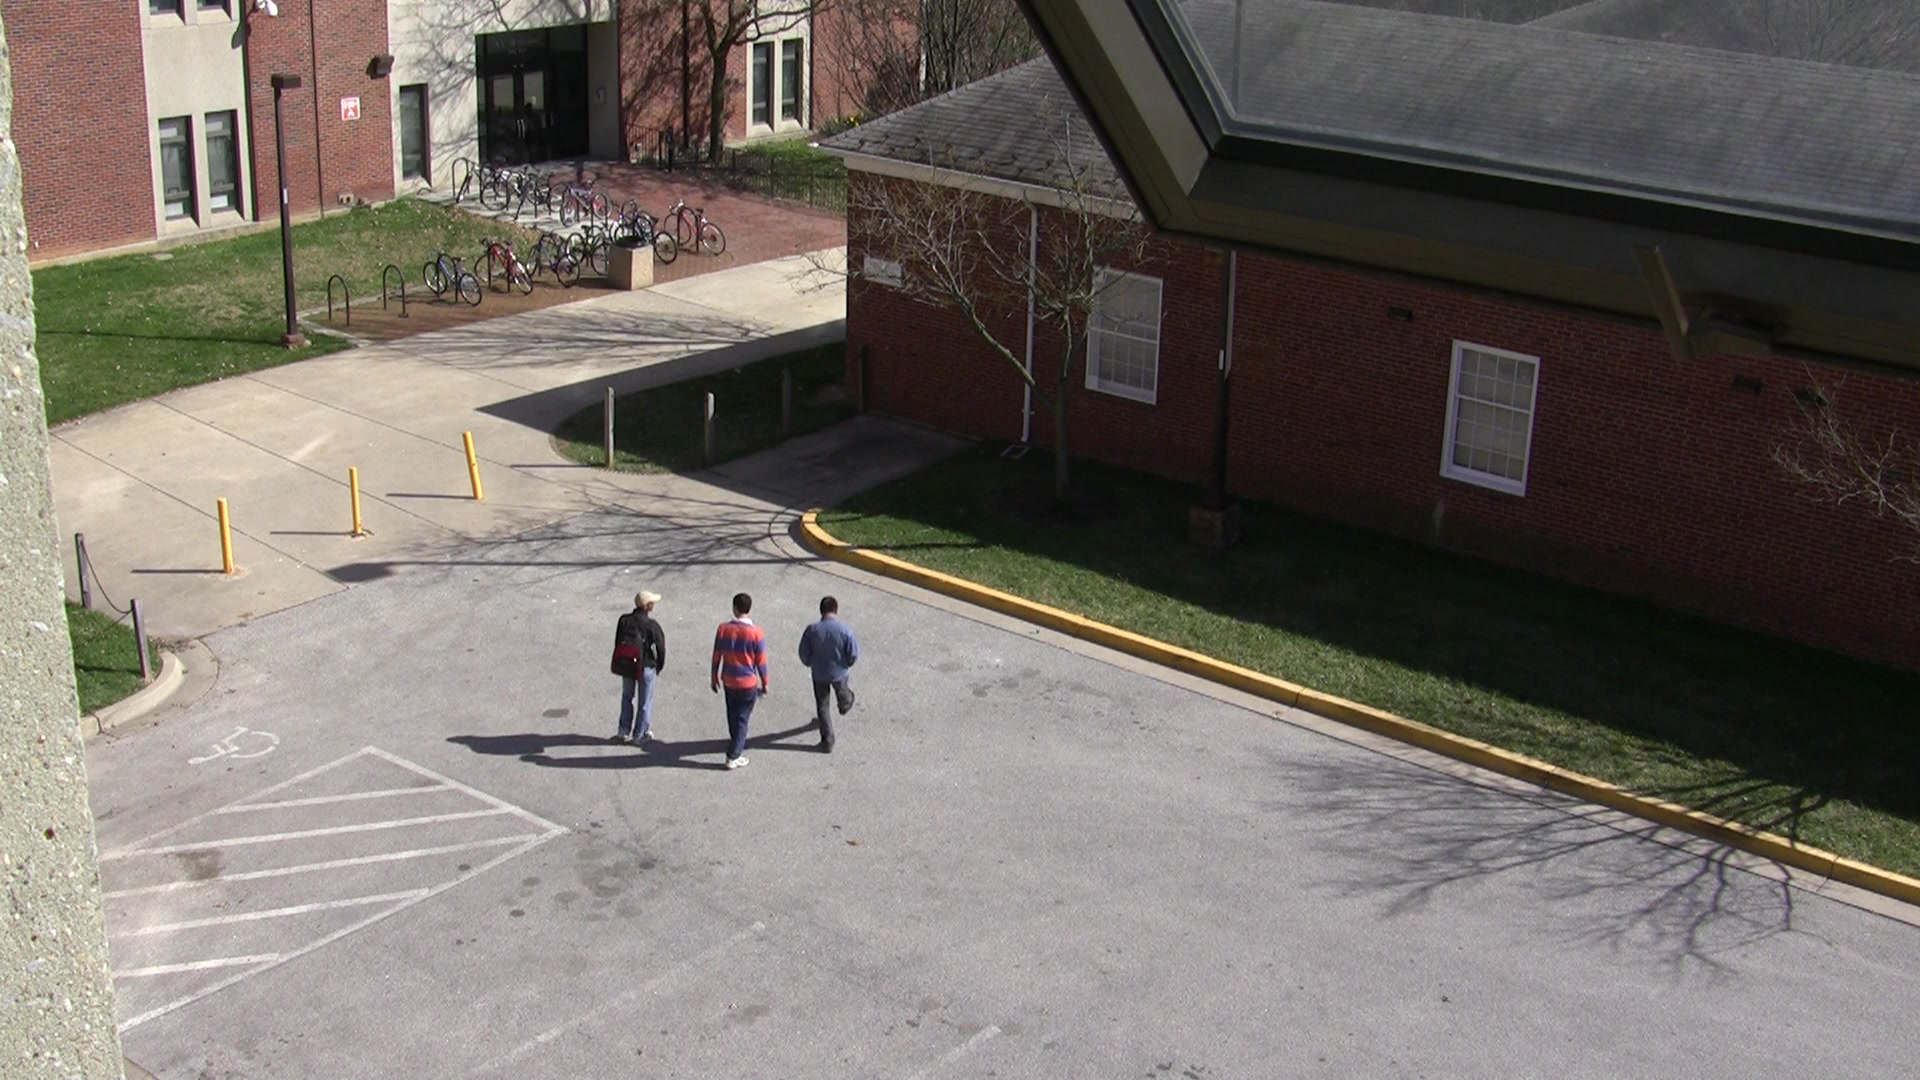person: (698, 588, 788, 776), (794, 595, 871, 768), (596, 586, 673, 751)
